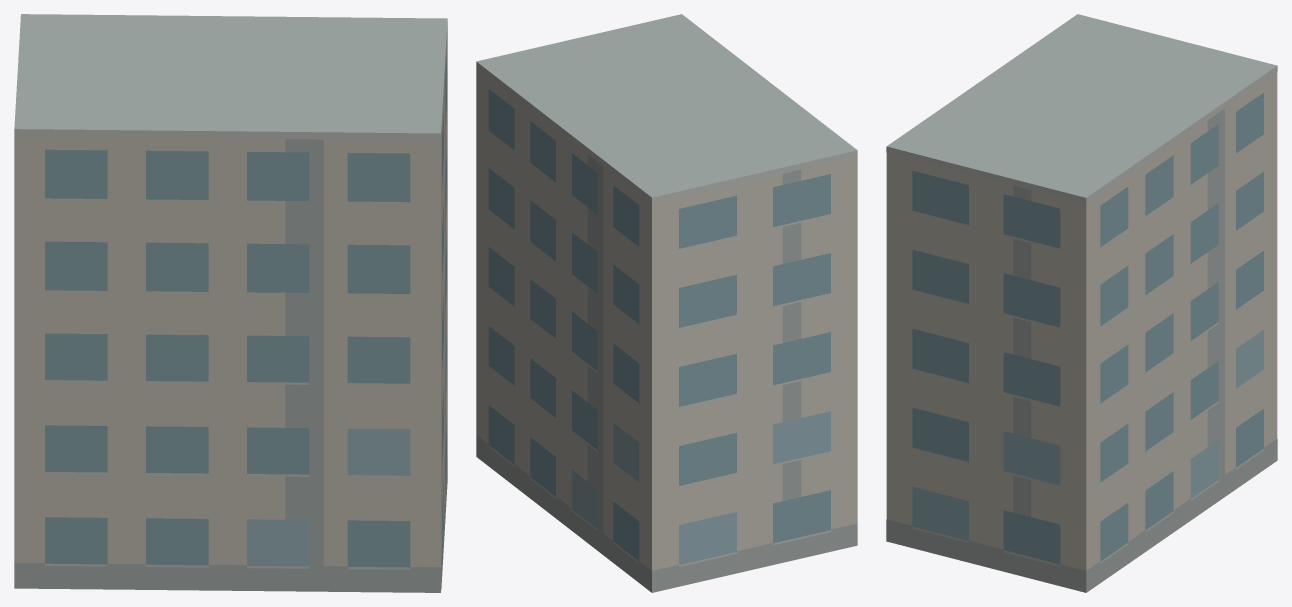
Rendered from residential-30663ed3-e6f5-4ee9-a3cb-9ce465908358.glb.
The picture shows the model from 3 angles, left to right: view 1: azimuth 30°, elevation 25°; view 2: azimuth 150°, elevation 25°; view 3: azimuth 270°, elevation 25°; orthographic projection. The views are drawn at different scales.
Parts seen in each view (by area): view 1: residential-30663ed3-e6f5-4ee9-a3cb-9ce465908358.tmp; view 2: residential-30663ed3-e6f5-4ee9-a3cb-9ce465908358.tmp; view 3: residential-30663ed3-e6f5-4ee9-a3cb-9ce465908358.tmp.
Boxes of the visible parts, x1,y1,x2,y2 form: residential-30663ed3-e6f5-4ee9-a3cb-9ce465908358.tmp: (14, 14, 447, 592); residential-30663ed3-e6f5-4ee9-a3cb-9ce465908358.tmp: (476, 14, 857, 592); residential-30663ed3-e6f5-4ee9-a3cb-9ce465908358.tmp: (886, 14, 1277, 592).
Size of the model in its own units: 15.23 by 15.25 by 13.69.
